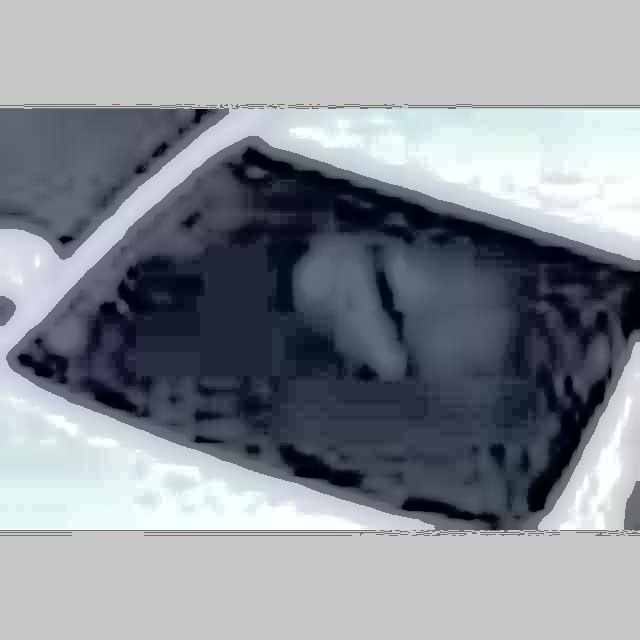pakai: (269, 227, 488, 429)
